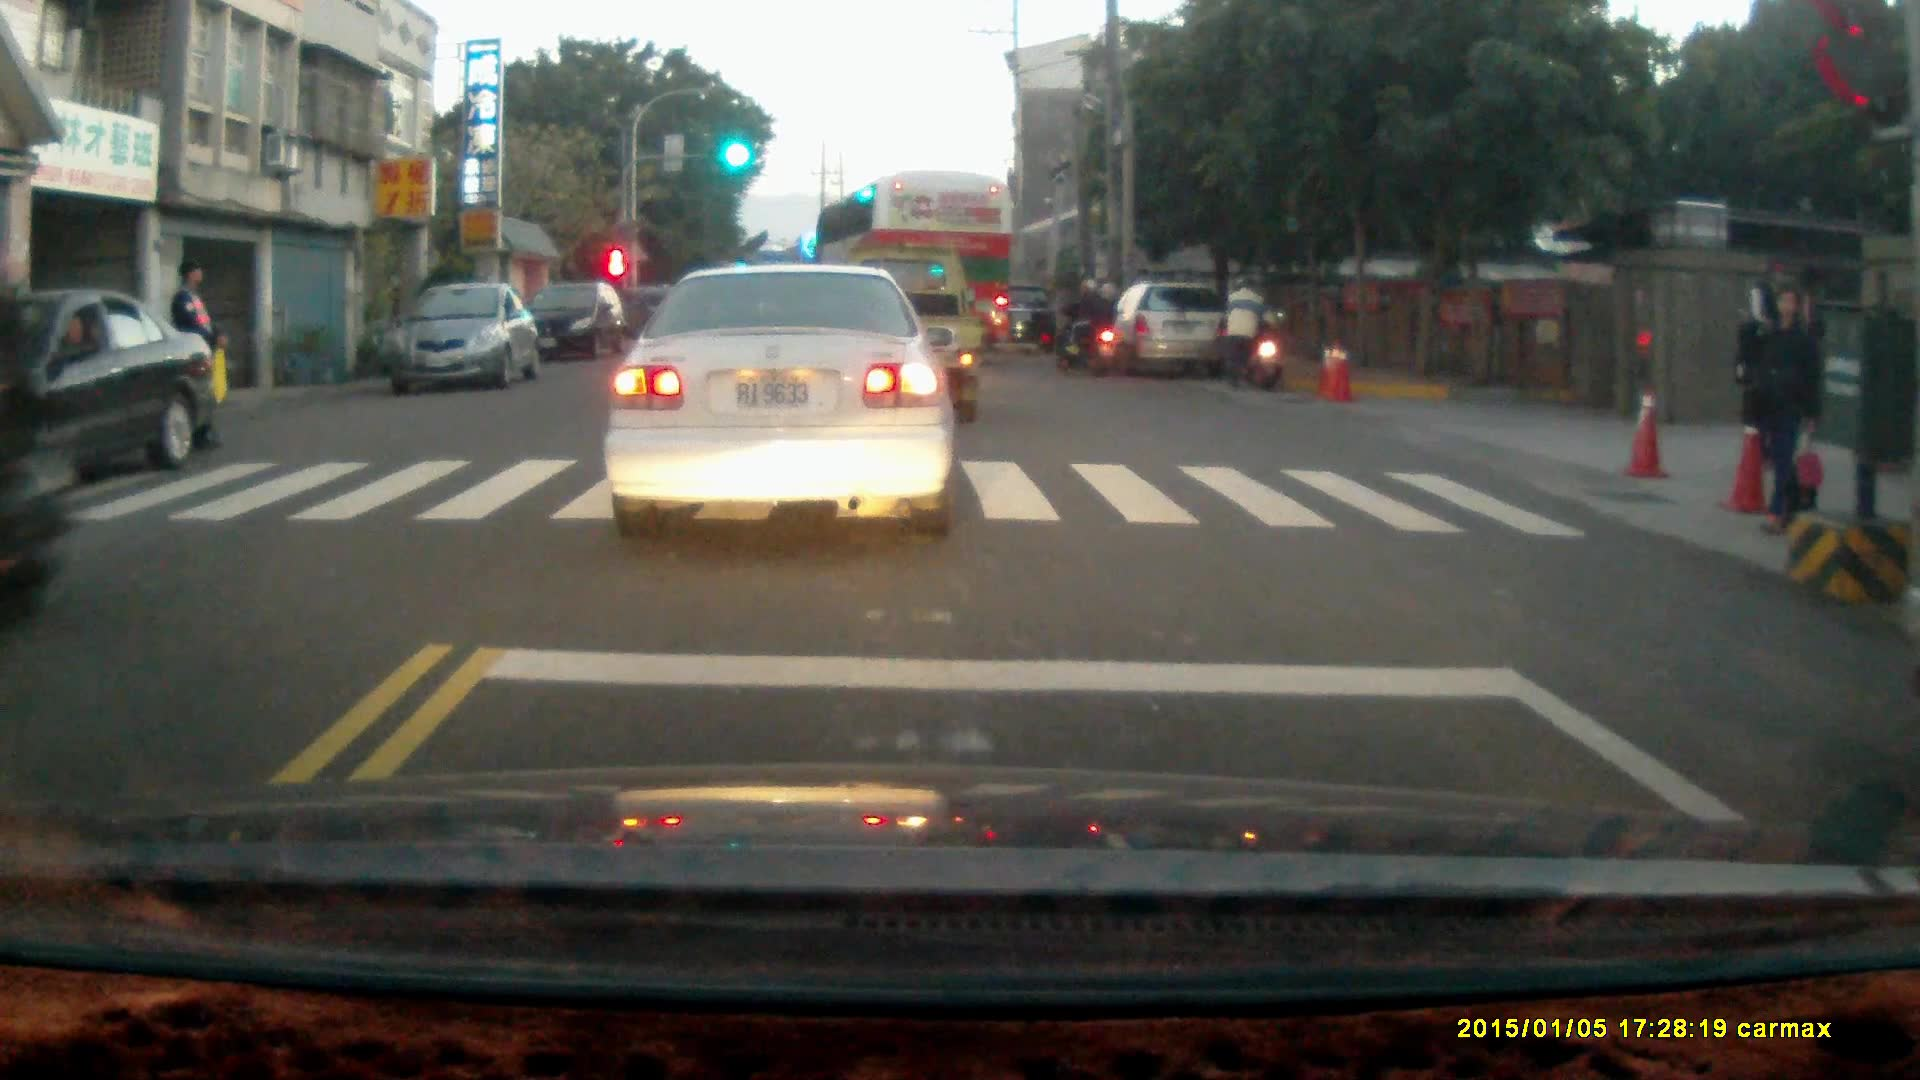pedestrian: (1745, 281, 1822, 528), (168, 258, 226, 452), (1732, 278, 1784, 464), (1224, 270, 1268, 386)
rider: (0, 249, 77, 633), (1052, 276, 1115, 382)
vehicle: (597, 260, 958, 546), (2, 292, 213, 512), (811, 171, 1018, 375), (380, 283, 538, 393), (1106, 282, 1233, 381), (522, 279, 629, 363)
